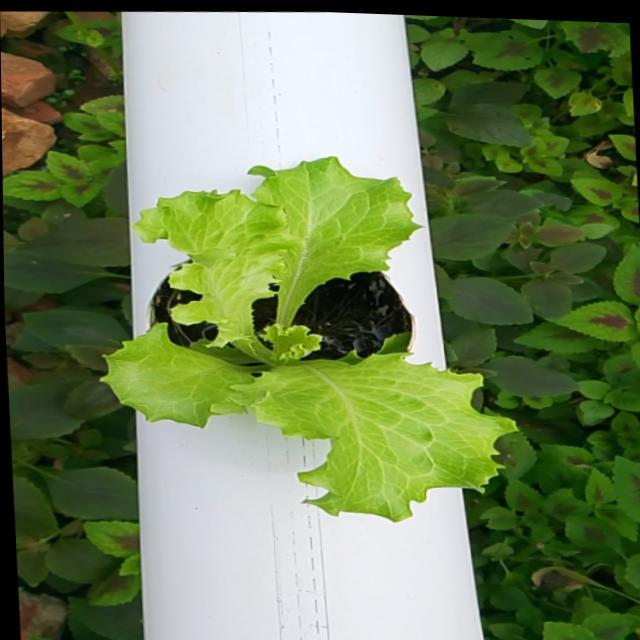Baby: (91, 162, 504, 524)
